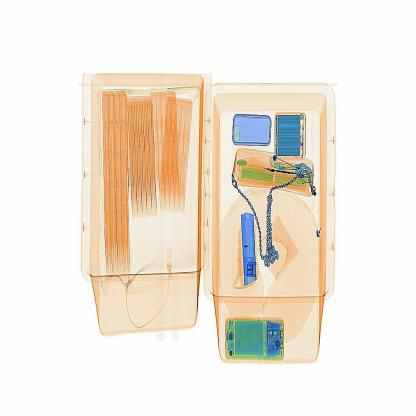pliers: (228, 200, 263, 296)
